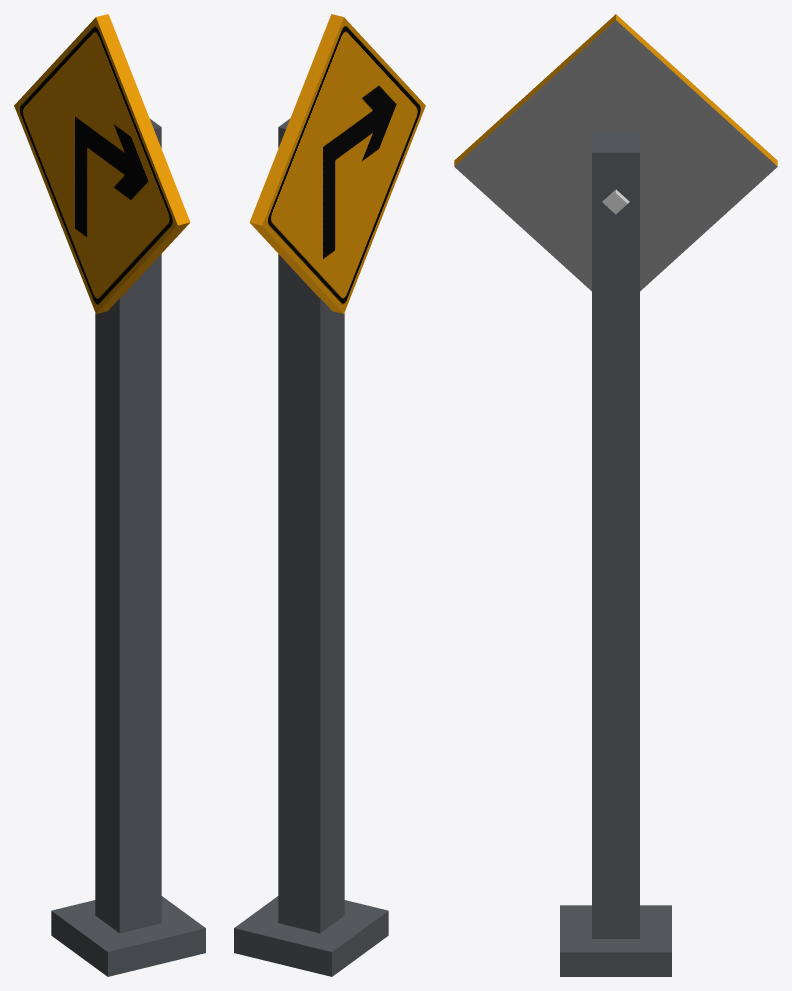
File: SM_SignBoard_1.fbx
The picture shows the model from 3 angles, left to right: view 1: azimuth 30°, elevation 25°; view 2: azimuth 150°, elevation 25°; view 3: azimuth 270°, elevation 25°; orthographic projection.
Parts seen in each view (by area): view 1: SM_SignBoard_1_LOD0; view 2: SM_SignBoard_1_LOD0; view 3: SM_SignBoard_1_LOD0.
Part boxes in pixels (x1=…): SM_SignBoard_1_LOD0: x1=14, y1=14, x2=205, y2=976; SM_SignBoard_1_LOD0: x1=234, y1=14, x2=425, y2=976; SM_SignBoard_1_LOD0: x1=454, y1=14, x2=777, y2=976.
Size of the model in its own units: 35 by 101 by 319.
1 material, 1 textured.
